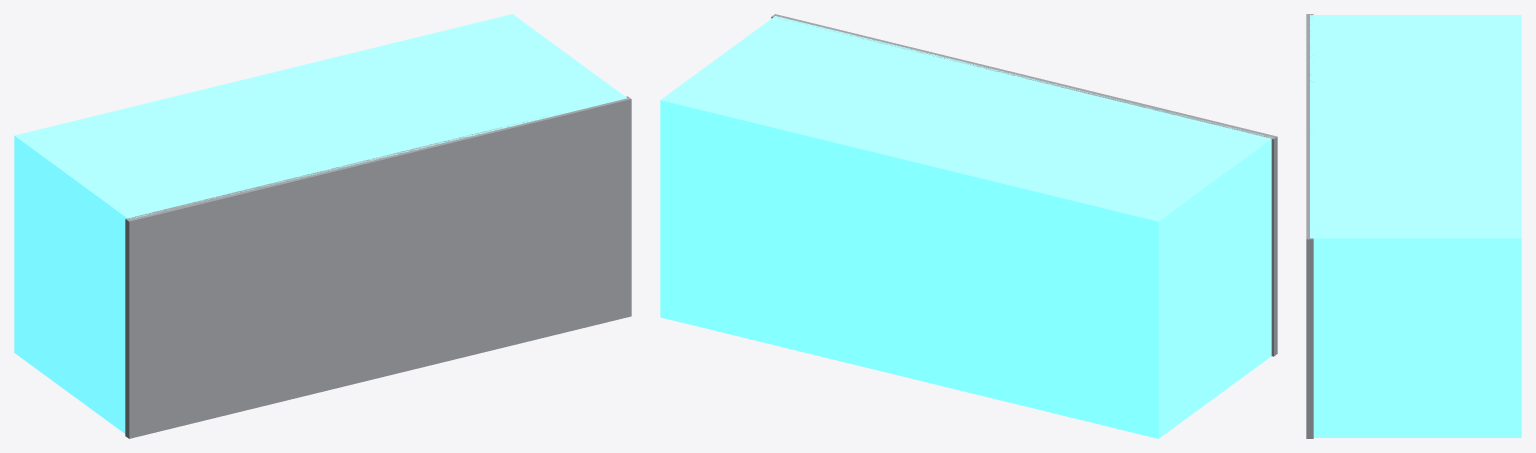
The model's file is container_01.glb.
3 renders of one model, left to right at view 1: azimuth 30°, elevation 25°; view 2: azimuth 150°, elevation 25°; view 3: azimuth 270°, elevation 25°, orthographic. The views are drawn at different scales.
Visible parts, largest first — view 1: Ribs, Box; view 2: Box, Ribs; view 3: Box, Ribs.
Part boxes in pixels (x1=…): Ribs: x1=125, y1=96, x2=631, y2=438; Box: x1=14, y1=14, x2=627, y2=433; Box: x1=660, y1=16, x2=1271, y2=438; Ribs: x1=771, y1=14, x2=1277, y2=356; Box: x1=1310, y1=15, x2=1521, y2=437; Ribs: x1=1306, y1=14, x2=1313, y2=438.
Size of the model in its own units: 6.05 by 2.5 by 2.44.
